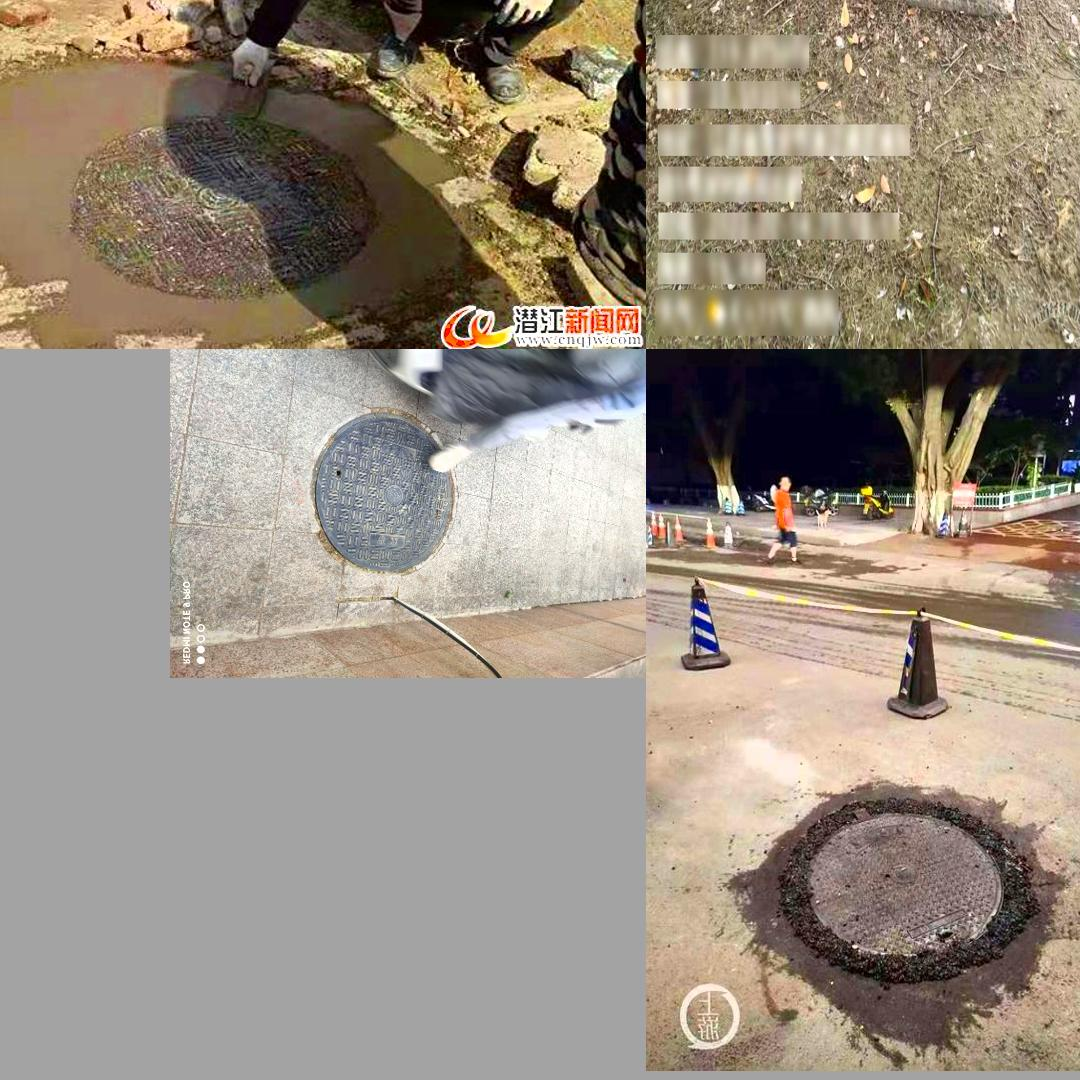good: (0, 51, 455, 336), (743, 773, 1060, 1034), (315, 410, 456, 571)
